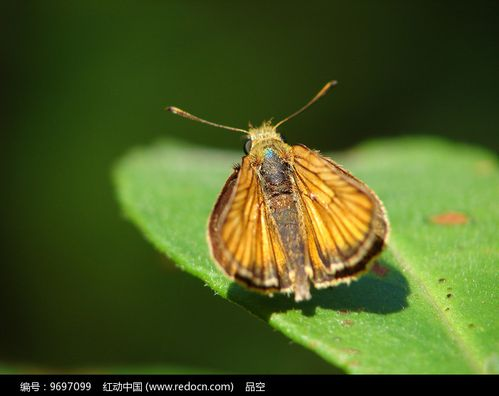Hesperiidae: (169, 77, 390, 306)
